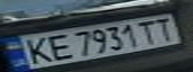1: (118, 21, 142, 47)
3: (106, 25, 127, 52)
7: (69, 28, 93, 57)
9: (90, 26, 112, 54)
E: (42, 32, 75, 62)
K: (18, 34, 57, 65)
T: (133, 18, 163, 44), (148, 16, 178, 40)
